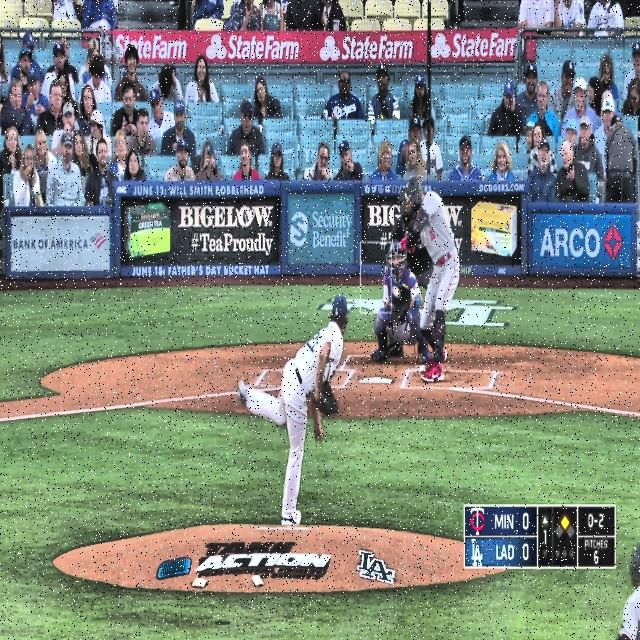baseball: (392, 284, 402, 300)
